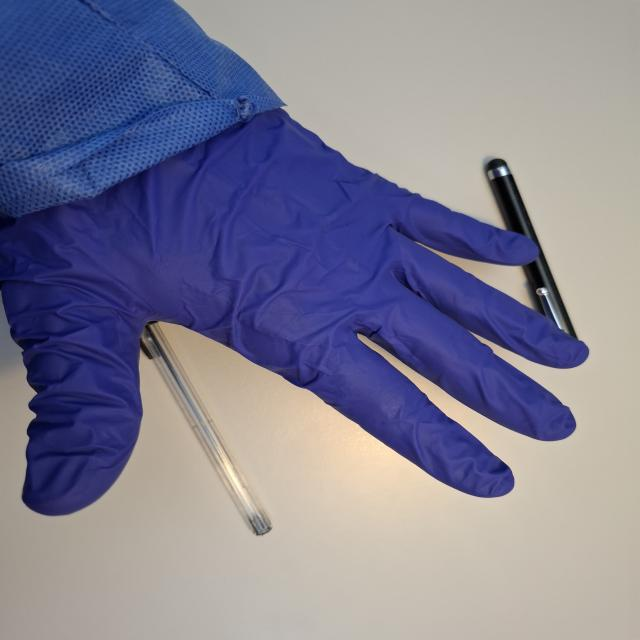glove_on: (0, 102, 593, 519)
